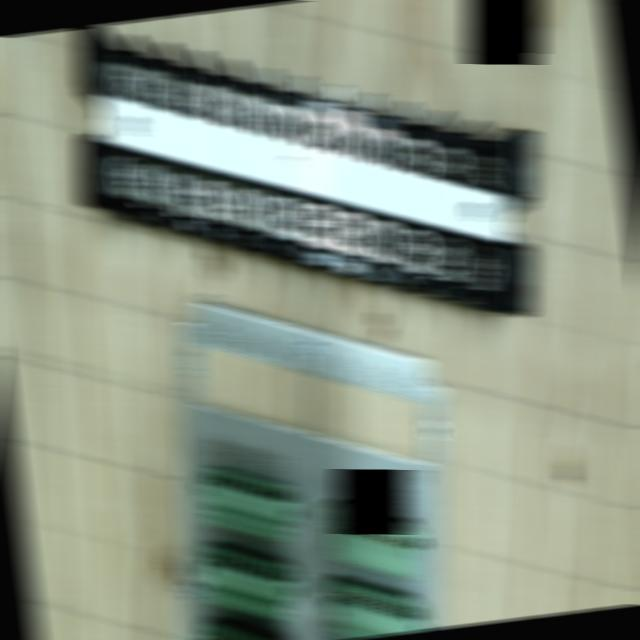Phillips_Block: (36, 18, 575, 314)
Terminal_2: (192, 544, 303, 621), (192, 466, 303, 542), (333, 582, 421, 639)
